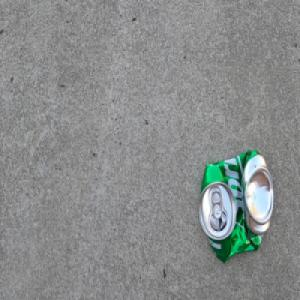SodaCan: (196, 146, 274, 263)
